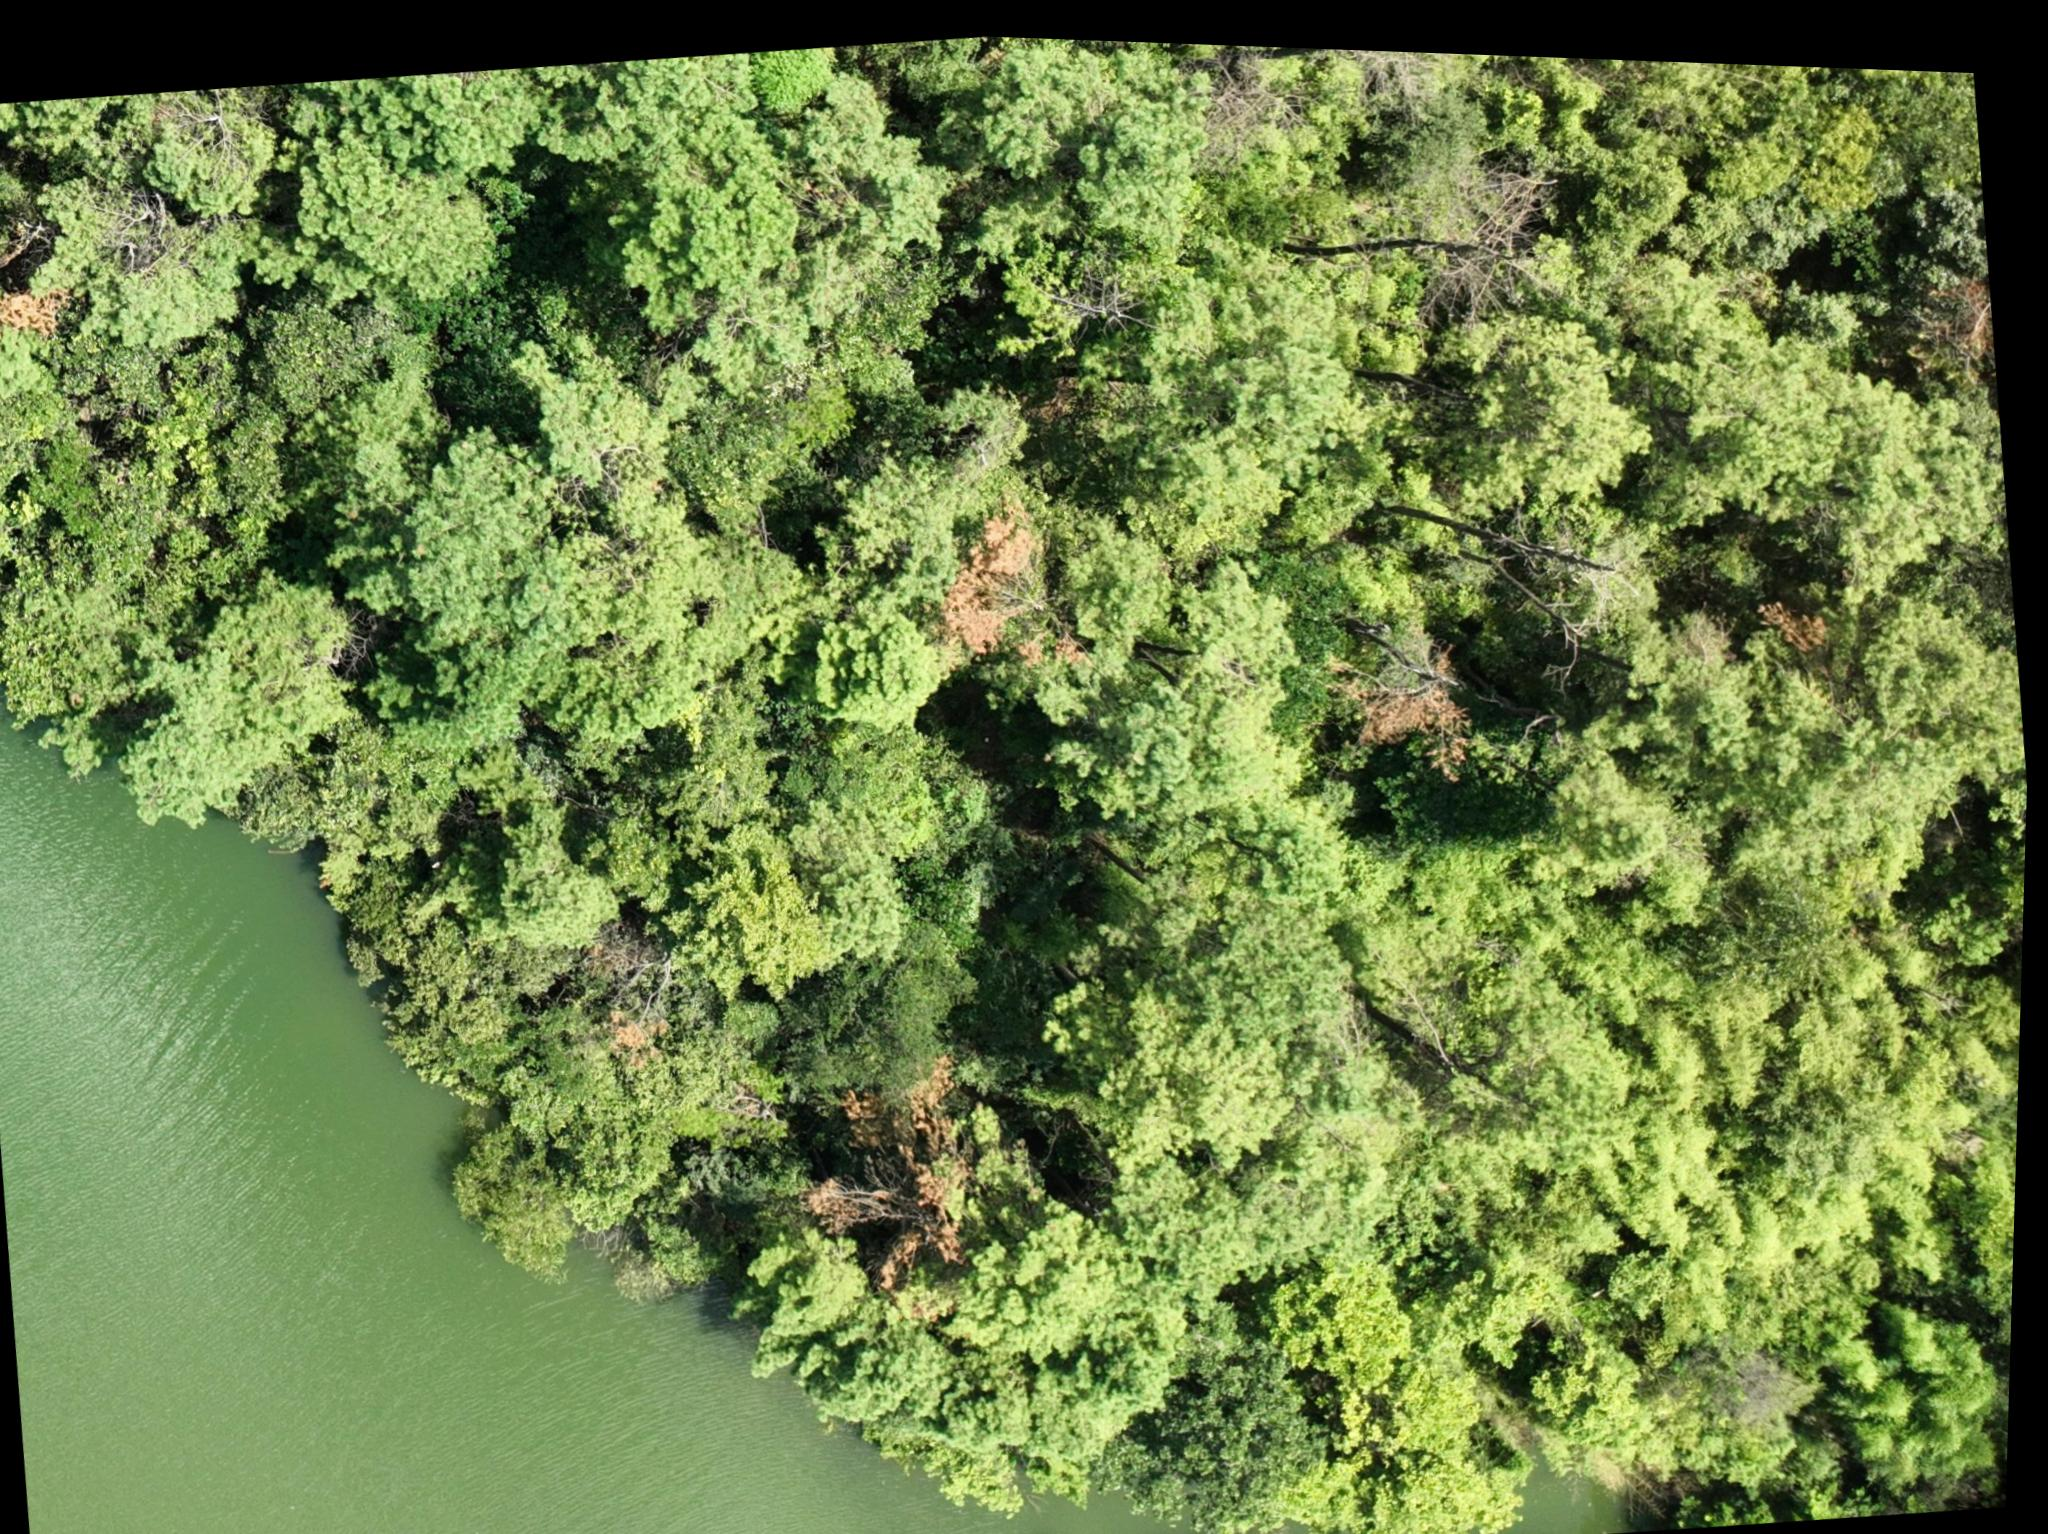heavy: (793, 1051, 985, 1281), (927, 480, 1088, 677), (1331, 614, 1478, 782), (585, 927, 683, 1068)
